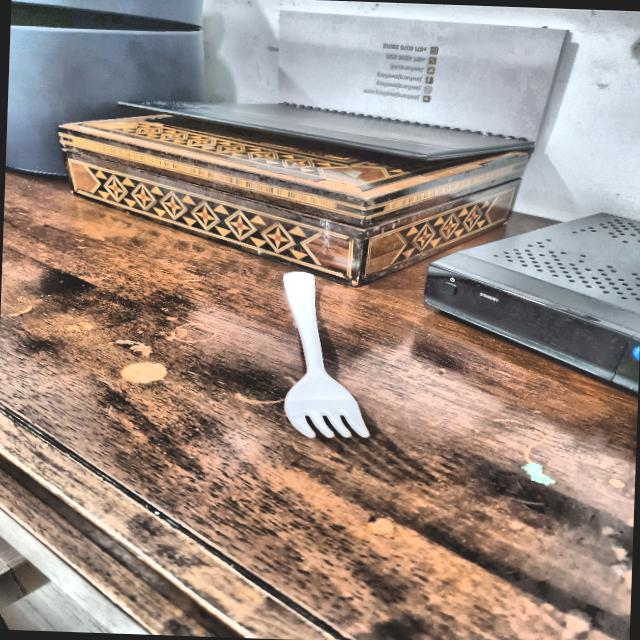plastic utensil: (276, 266, 385, 439)
